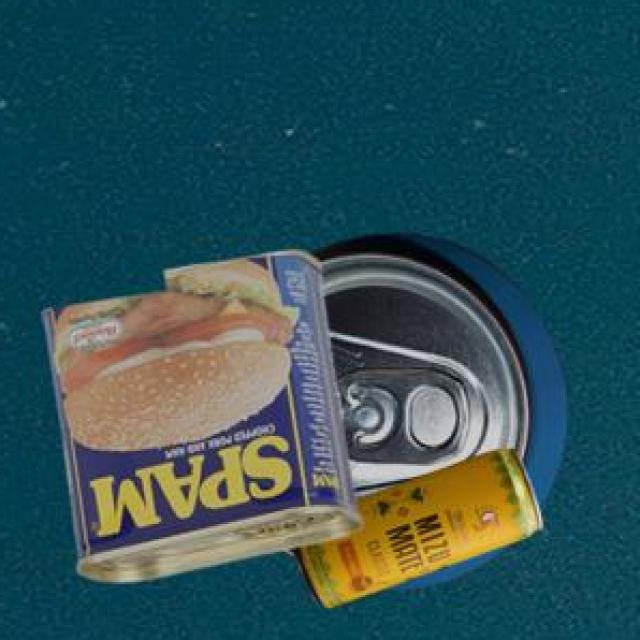logam: (46, 254, 366, 585), (315, 237, 570, 592), (295, 452, 547, 611)
